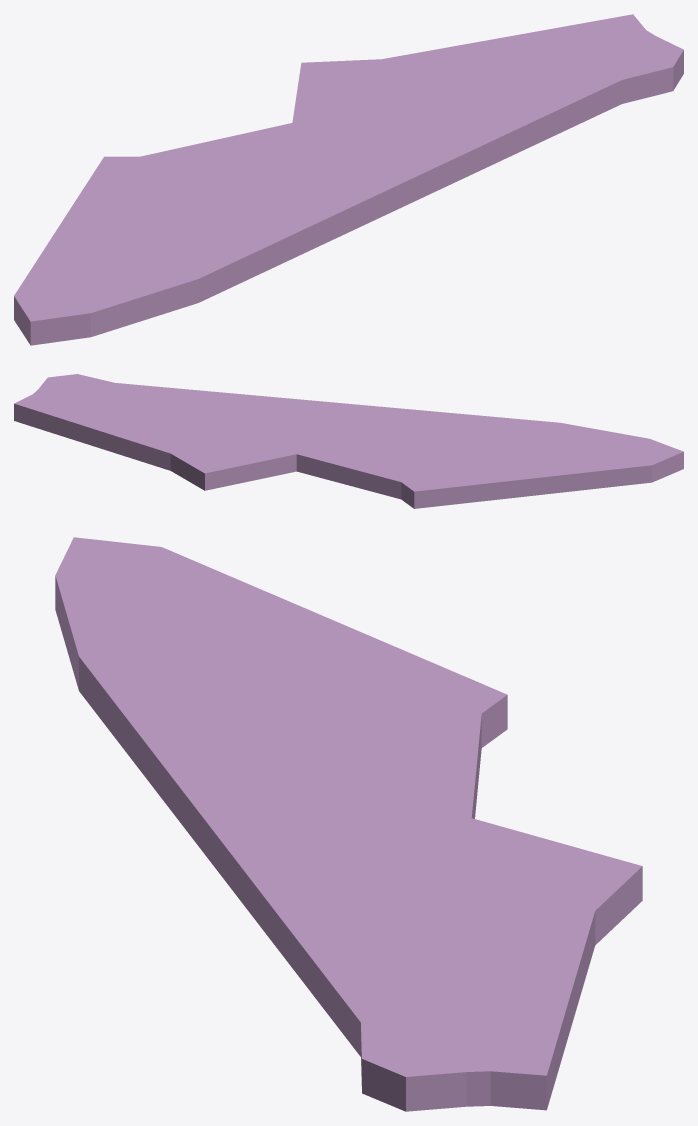
Rendered from boundary_extruded_3857.gltf.
The picture shows the model from 3 angles, top to bottom: view 1: azimuth 30°, elevation 25°; view 2: azimuth 150°, elevation 25°; view 3: azimuth 270°, elevation 25°; orthographic projection. The views are drawn at different scales.
Visible parts, largest first — view 1: MIT_Boundary; view 2: MIT_Boundary; view 3: MIT_Boundary.
Boxes of the visible parts, x1,y1,x2,y2 form: MIT_Boundary: (14, 14, 683, 345); MIT_Boundary: (14, 374, 683, 508); MIT_Boundary: (55, 537, 642, 1111).
Size of the model in its own units: 0.0334 by 0.001 by 0.0154.
